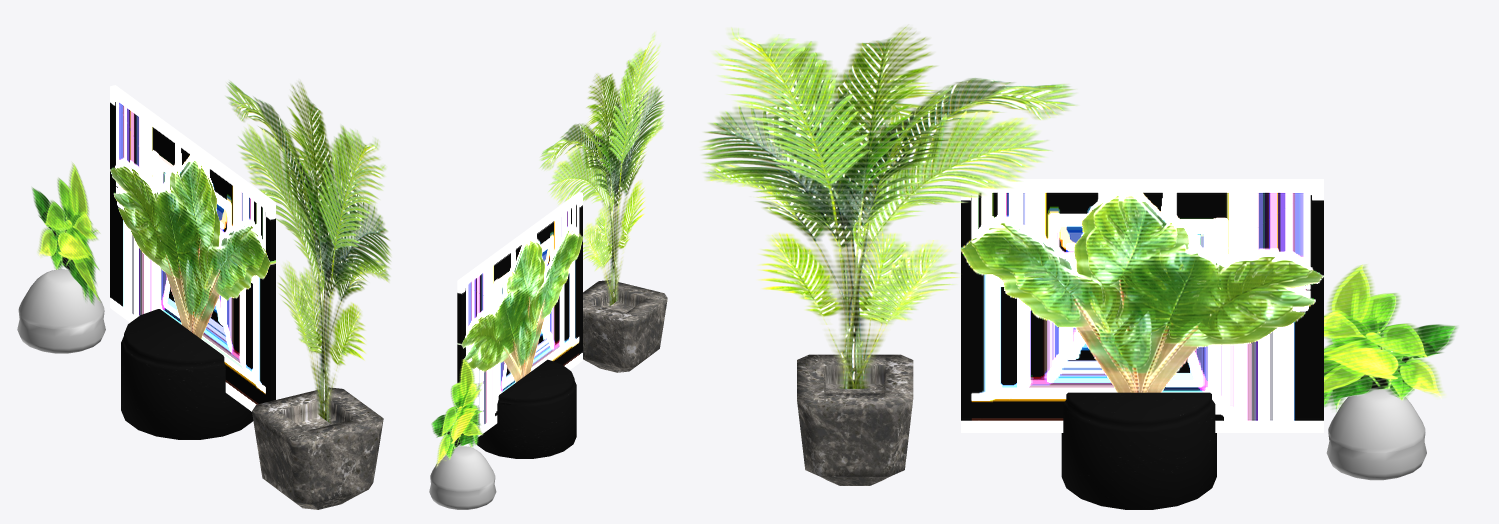
Rendered from holographic_plants.glb.
3 renders of one model, left to right at view 1: azimuth 30°, elevation 25°; view 2: azimuth 150°, elevation 25°; view 3: azimuth 270°, elevation 25°, orthographic. The views are drawn at different scales.
Visible parts, largest first — view 1: PLEANTLEAVES2_0, PLANTLEAVES3_2, vase1_3, vase2_1, vase3_4, PLEANTLEAVES1_5; view 2: PLEANTLEAVES2_0, PLANTLEAVES3_2, vase2_1, vase1_3, vase3_4, PLEANTLEAVES1_5; view 3: PLEANTLEAVES2_0, PLANTLEAVES3_2, vase2_1, vase1_3, PLEANTLEAVES1_5, vase3_4.
Boxes of the visible parts, x1,y1,x2,y2 form: PLEANTLEAVES2_0: (110, 85, 275, 411); PLANTLEAVES3_2: (225, 80, 390, 423); vase1_3: (252, 387, 383, 509); vase2_1: (121, 309, 253, 439); vase3_4: (17, 269, 105, 353); PLEANTLEAVES1_5: (32, 162, 100, 304); PLEANTLEAVES2_0: (457, 192, 582, 446); PLANTLEAVES3_2: (539, 32, 664, 306); vase2_1: (475, 359, 576, 458); vase1_3: (583, 280, 667, 372); vase3_4: (429, 446, 496, 509); PLEANTLEAVES1_5: (431, 359, 483, 467); PLEANTLEAVES2_0: (961, 179, 1323, 432); PLANTLEAVES3_2: (701, 24, 1077, 389); vase2_1: (1061, 392, 1216, 509); vase1_3: (797, 354, 913, 485); PLEANTLEAVES1_5: (1324, 264, 1457, 412); vase3_4: (1326, 388, 1426, 480).
Bounding box in the file's own units: 0.677 × 2.25 × 3.42.
6 materials, 5 textured.
